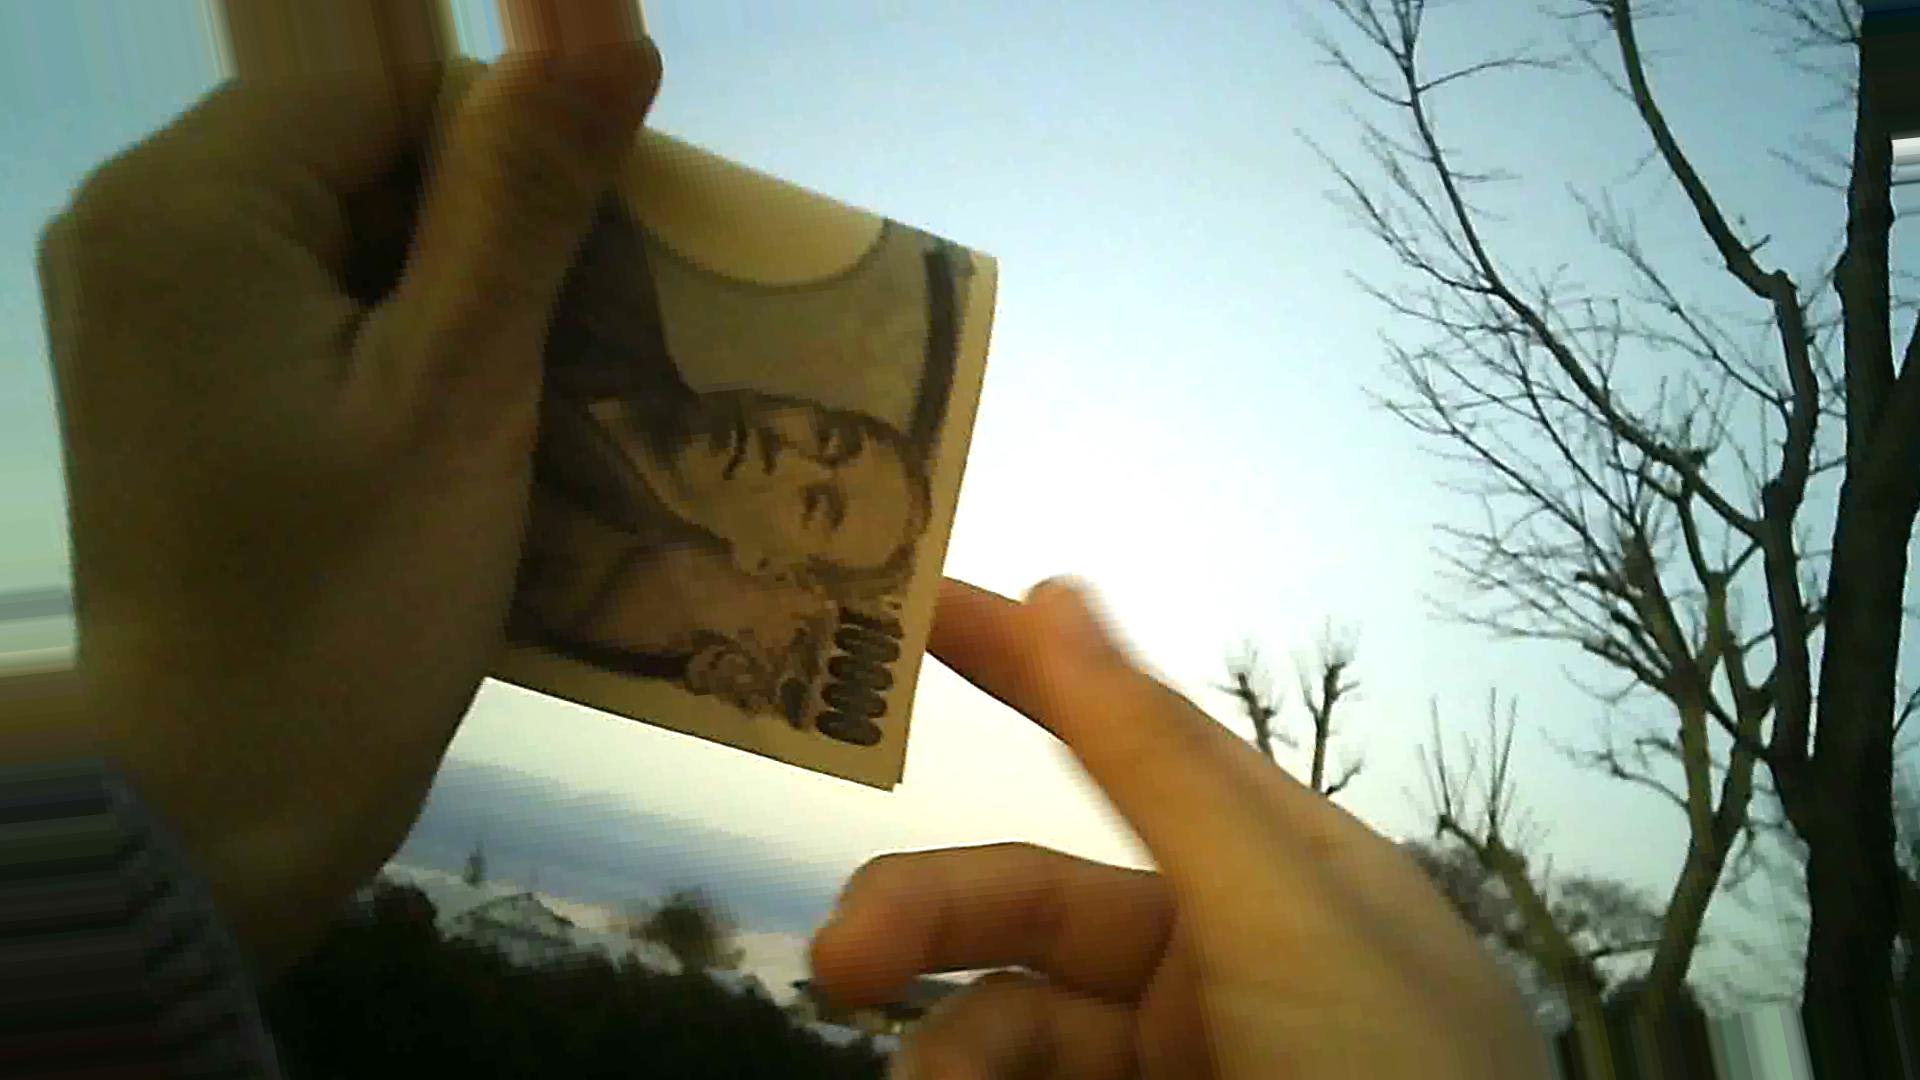10,000 Yen: (386, 55, 1033, 820)
